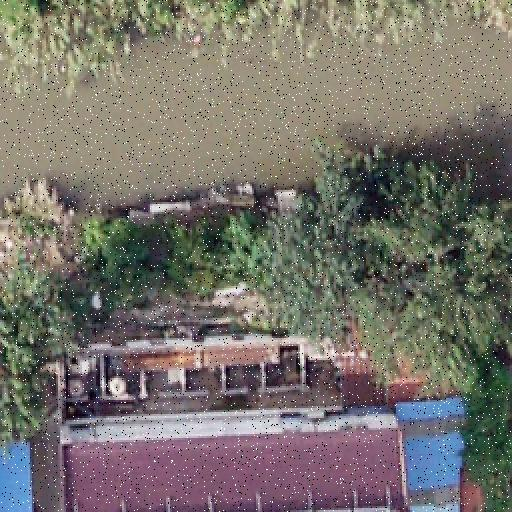solar-panel: (355, 505, 389, 511), (314, 508, 350, 512)
